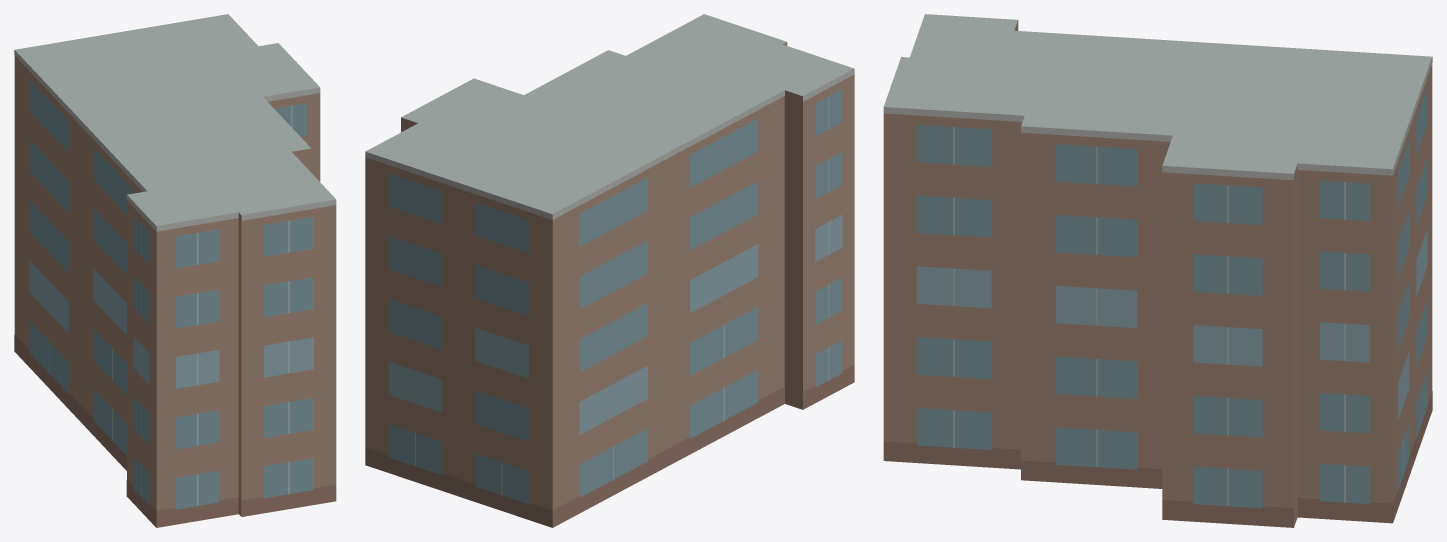
File: survey-upis-33037994.glb
The picture shows the model from 3 angles, left to right: view 1: azimuth 30°, elevation 25°; view 2: azimuth 150°, elevation 25°; view 3: azimuth 270°, elevation 25°; orthographic projection. The views are drawn at different scales.
Parts seen in each view (by area): view 1: survey-upis-33037994.tmp; view 2: survey-upis-33037994.tmp; view 3: survey-upis-33037994.tmp.
Part boxes in pixels (<box>): survey-upis-33037994.tmp: <box>14,14,336,527</box>; survey-upis-33037994.tmp: <box>365,14,854,527</box>; survey-upis-33037994.tmp: <box>883,14,1432,527</box>.
Size of the model in its own units: 12.99 by 13.4 by 18.84.
